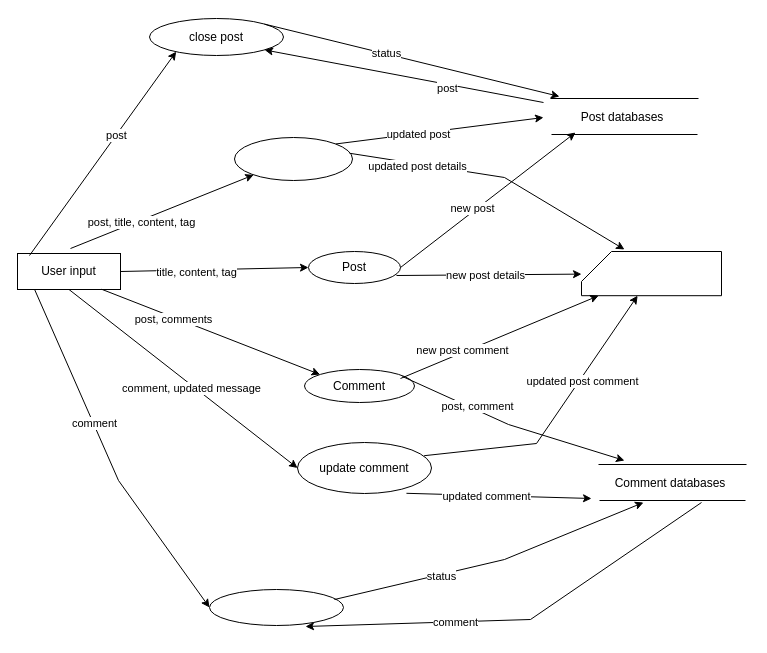
Some shapes in this 767 by 653 pixel diagram are drawn without their labels. Here are the shapes that lost their labels. From the top down, the centre of each, then its label:
the point at 293,158: update post
the point at 651,273: Display post
the point at 276,607: delete comment
